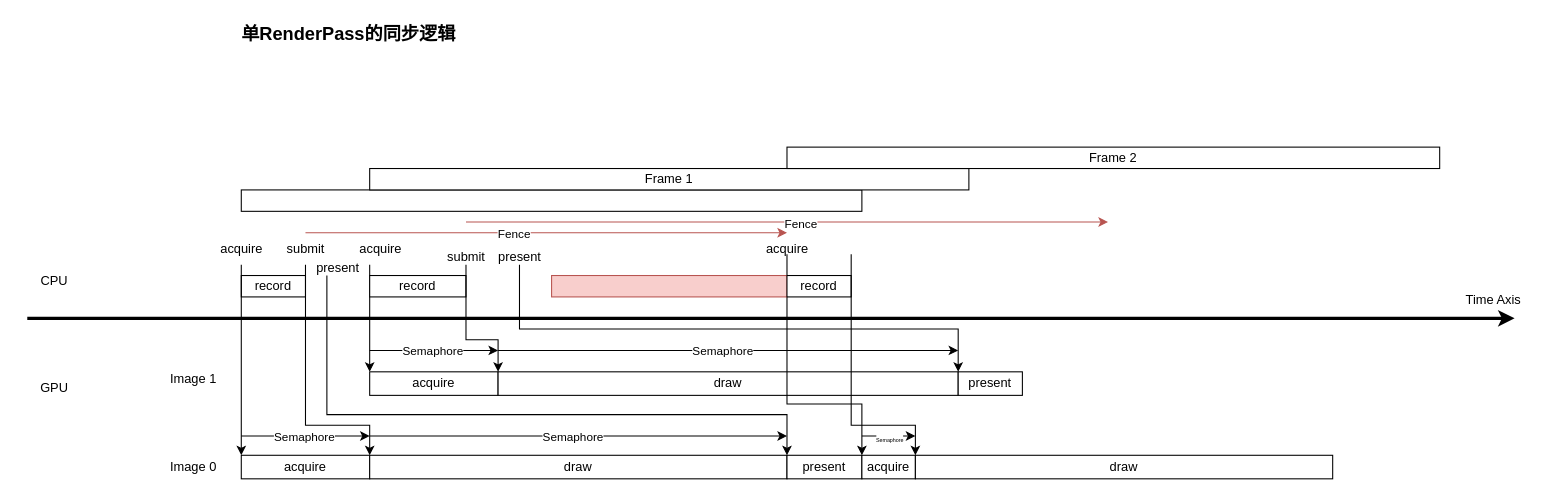
The diagram is 1555 pixels wide and 501 high, and some of its shapes have lost their labels. Each missing label, with the box of its shape:
Frame 0: (240, 189, 862, 211)
wait for fence: (551, 274, 787, 297)
